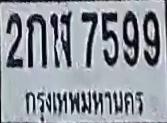2: (5, 13, 23, 68)
5: (101, 12, 120, 68)
7: (81, 12, 98, 66)
9: (142, 10, 160, 66), (122, 10, 138, 66)
A01: (26, 14, 47, 68)
A42: (50, 12, 72, 68)
BKK: (21, 86, 148, 123)
